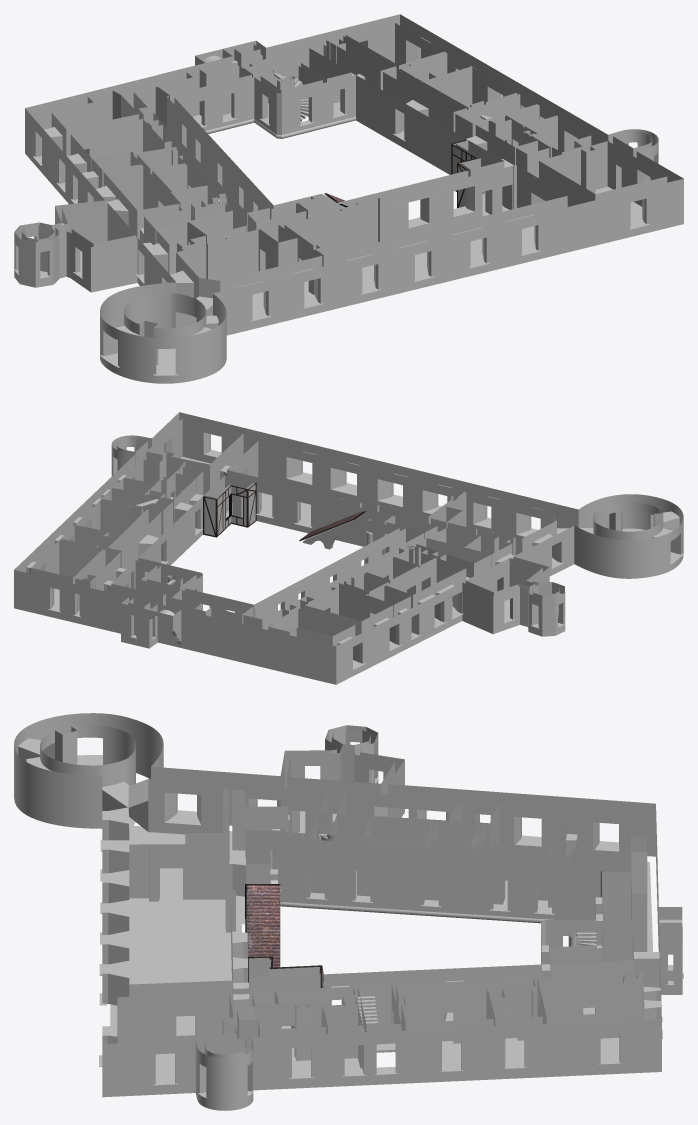
Rendered from 2_STAVS_2.fbx.
3 views of the same model, one above another, from view 1: azimuth 30°, elevation 25°; view 2: azimuth 150°, elevation 25°; view 3: azimuth 270°, elevation 25° (orthographic). The views are drawn at different scales.
Visible parts, largest first — view 1: 2_STAVS_2, 2_STAVS, 2_GRIDA, 2_METAL; view 2: 2_STAVS_2, 2_STAVS, 2_KOKS, 2_METAL, 2_GRIDA; view 3: 2_STAVS_2, 2_STAVS, 2_GRIDA, 2_JUMTS, 2_METAL, 2_KAPNES.
Boxes of the visible parts, left/top/right/bottom form: 2_STAVS_2: left=14, top=86, right=683, bottom=383; 2_STAVS: left=25, top=14, right=683, bottom=252; 2_GRIDA: left=40, top=102, right=642, bottom=364; 2_METAL: left=14, top=113, right=649, bottom=375; 2_STAVS_2: left=179, top=412, right=683, bottom=684; 2_STAVS: left=14, top=412, right=452, bottom=684; 2_KOKS: left=203, top=482, right=366, bottom=540; 2_METAL: left=48, top=449, right=683, bottom=669; 2_GRIDA: left=54, top=457, right=538, bottom=625; 2_STAVS_2: left=14, top=713, right=655, bottom=978; 2_STAVS: left=102, top=801, right=682, bottom=1110; 2_GRIDA: left=110, top=811, right=673, bottom=1079; 2_JUMTS: left=245, top=885, right=280, bottom=967; 2_METAL: left=77, top=755, right=683, bottom=1098; 2_KAPNES: left=318, top=834, right=596, bottom=1052.
Size of the model in its own units: 60023 by 4302 by 49202.
